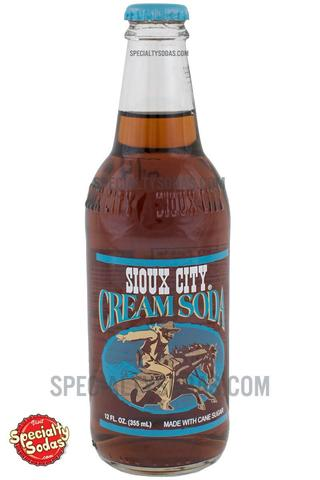Rec_Glass: (85, 1, 236, 469)
